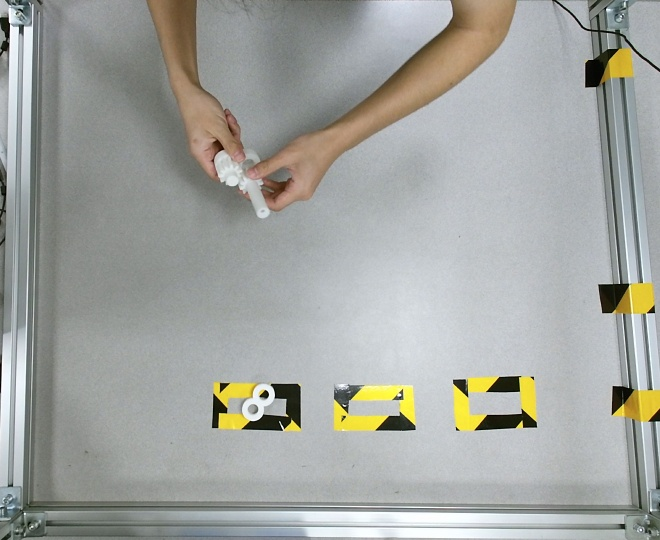stage_2: (214, 149, 263, 186)
